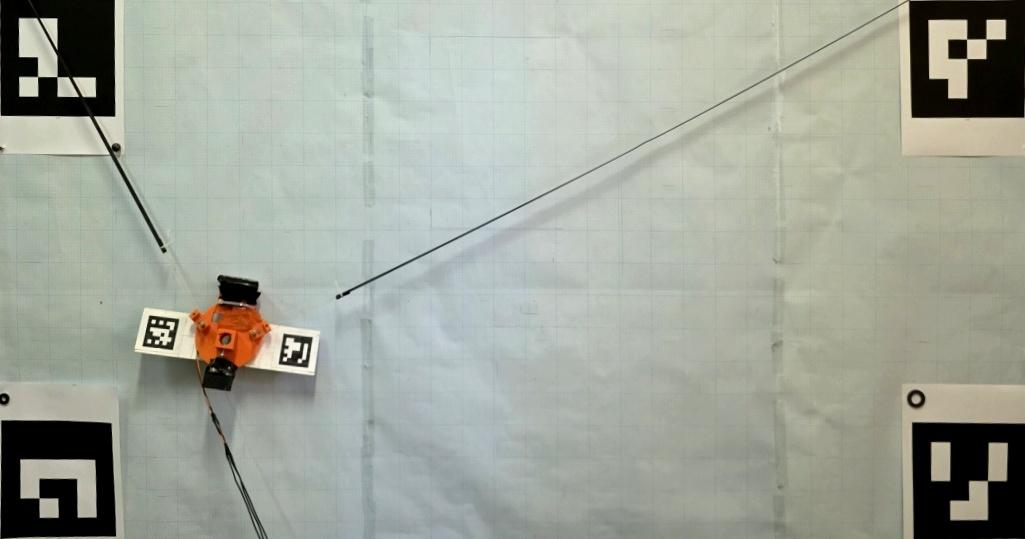robot: (189, 276, 272, 393)
